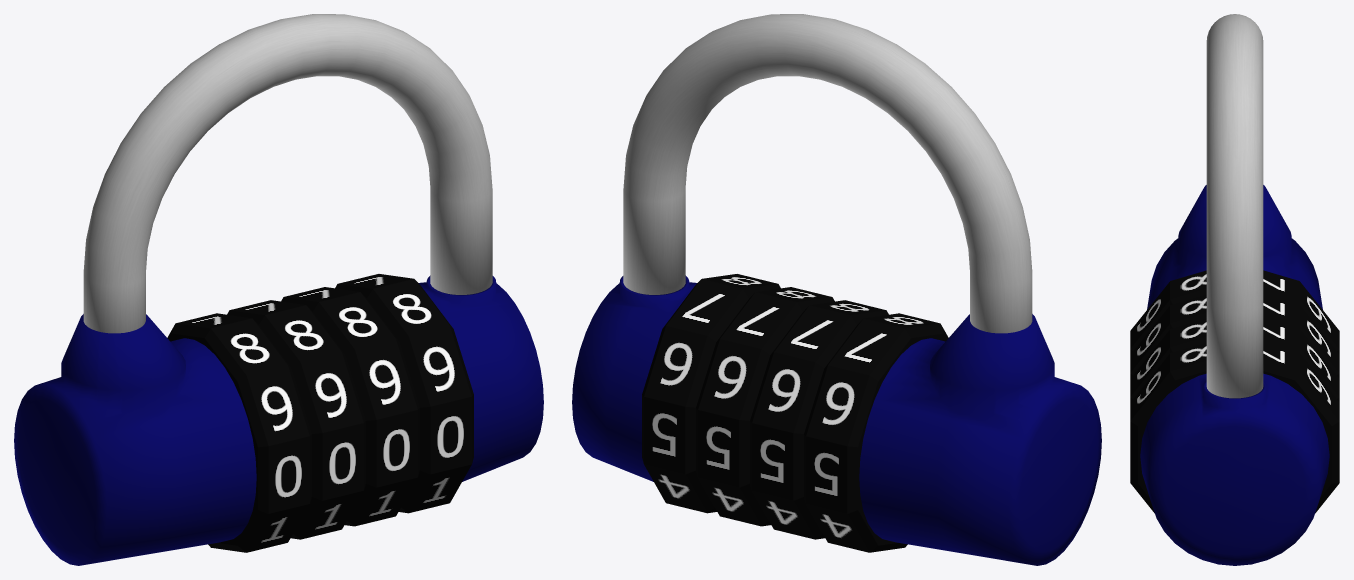
Rendered from DialPadLock_Smoose.fbx.
The picture shows the model from 3 angles, left to right: view 1: azimuth 30°, elevation 25°; view 2: azimuth 150°, elevation 25°; view 3: azimuth 270°, elevation 25°; orthographic projection. The views are drawn at different scales.
Parts seen in each view (by area): view 1: DialPadLock_Body, Lock, Dial1, Dial2, Dial3, Dial4; view 2: DialPadLock_Body, Lock, Dial1, Dial2, Dial3, Dial4; view 3: DialPadLock_Body, Lock, Dial4, Dial3, Dial1, Dial2.
Part boxes in pixels (x1=…): DialPadLock_Body: x1=14, y1=275, x2=543, y2=565; Lock: x1=83, y1=14, x2=492, y2=333; Dial1: x1=167, y1=313, x2=311, y2=552; Dial2: x1=227, y1=300, x2=365, y2=539; Dial3: x1=281, y1=287, x2=419, y2=526; Dial4: x1=335, y1=274, x2=473, y2=513; DialPadLock_Body: x1=572, y1=275, x2=1101, y2=565; Lock: x1=623, y1=14, x2=1032, y2=333; Dial1: x1=804, y1=313, x2=948, y2=552; Dial2: x1=750, y1=300, x2=888, y2=539; Dial3: x1=696, y1=287, x2=834, y2=526; Dial4: x1=642, y1=274, x2=780, y2=513; DialPadLock_Body: x1=1140, y1=185, x2=1329, y2=565; Lock: x1=1206, y1=14, x2=1263, y2=398; Dial4: x1=1130, y1=342, x2=1339, y2=513; Dial3: x1=1130, y1=318, x2=1339, y2=402; Dial1: x1=1130, y1=270, x2=1339, y2=354; Dial2: x1=1130, y1=294, x2=1339, y2=378.
Bounding box in the file's own units: 505 × 539 × 221.
